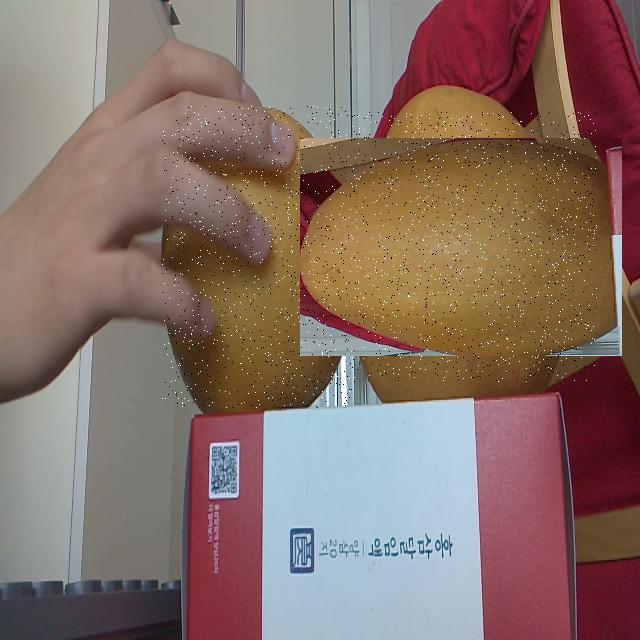pear: (326, 112, 597, 382), (162, 106, 352, 408)
